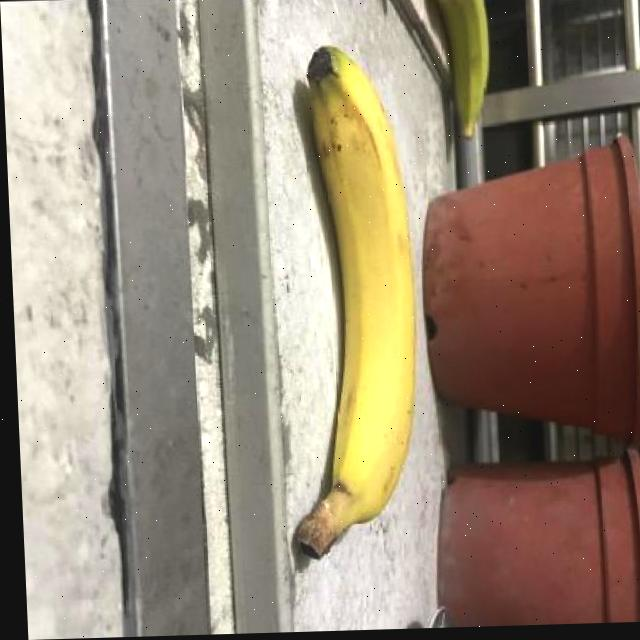banana: (269, 40, 431, 569)
